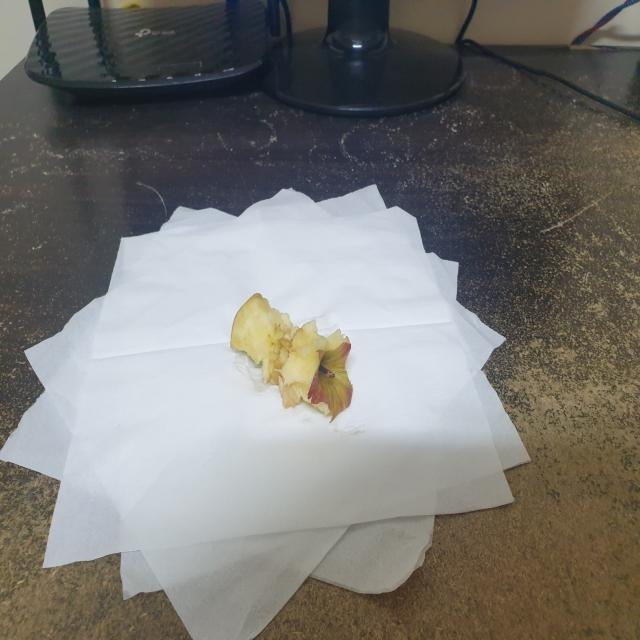apple: (216, 285, 368, 430)
